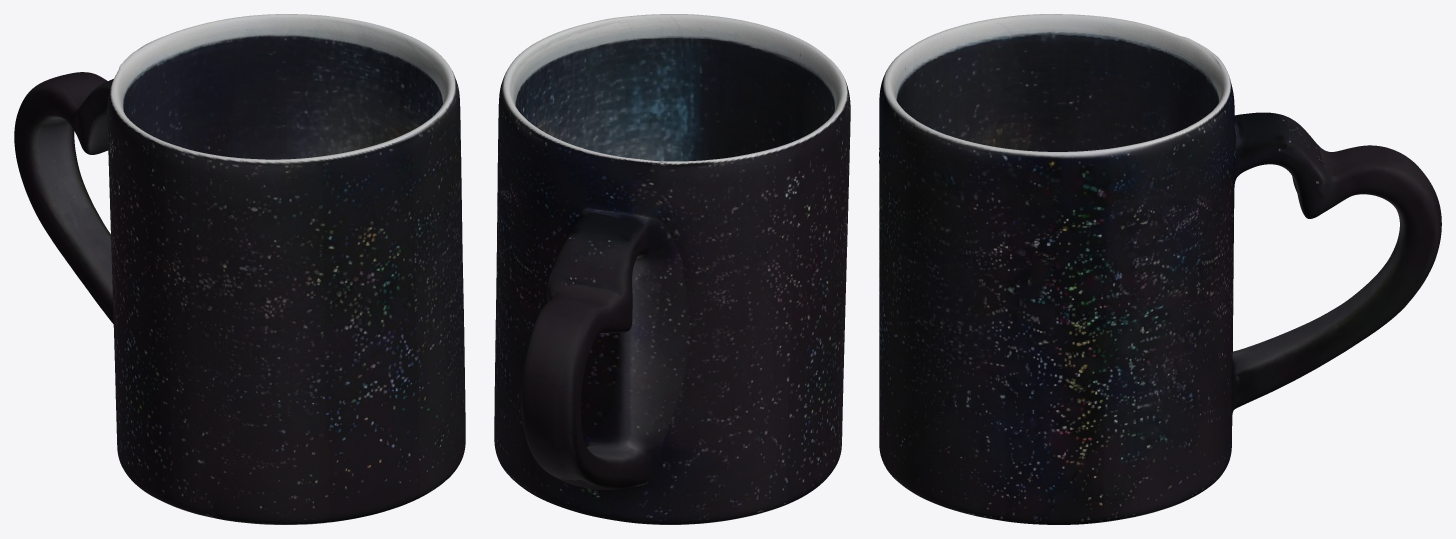
Rendered from mug_heart.glb.
3 views of the same model, side by side, from view 1: azimuth 30°, elevation 25°; view 2: azimuth 150°, elevation 25°; view 3: azimuth 270°, elevation 25° (orthographic).
Parts seen in each view (by area): view 1: tripo_node_cae62f02-90e0-471b-8379-c782ab9877b8; view 2: tripo_node_cae62f02-90e0-471b-8379-c782ab9877b8; view 3: tripo_node_cae62f02-90e0-471b-8379-c782ab9877b8.
Part boxes in pixels (x1=…): tripo_node_cae62f02-90e0-471b-8379-c782ab9877b8: x1=14, y1=14, x2=465, y2=524; tripo_node_cae62f02-90e0-471b-8379-c782ab9877b8: x1=494, y1=14, x2=850, y2=524; tripo_node_cae62f02-90e0-471b-8379-c782ab9877b8: x1=879, y1=14, x2=1441, y2=524.
Size of the model in its own units: 0.6423 by 0.7362 by 1.
Materials: 1 (1 with a texture image).
